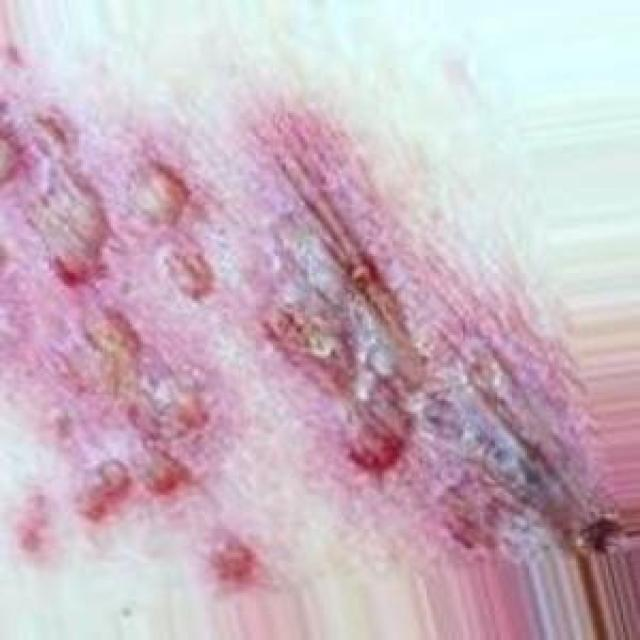Shingles: (0, 103, 525, 551)
